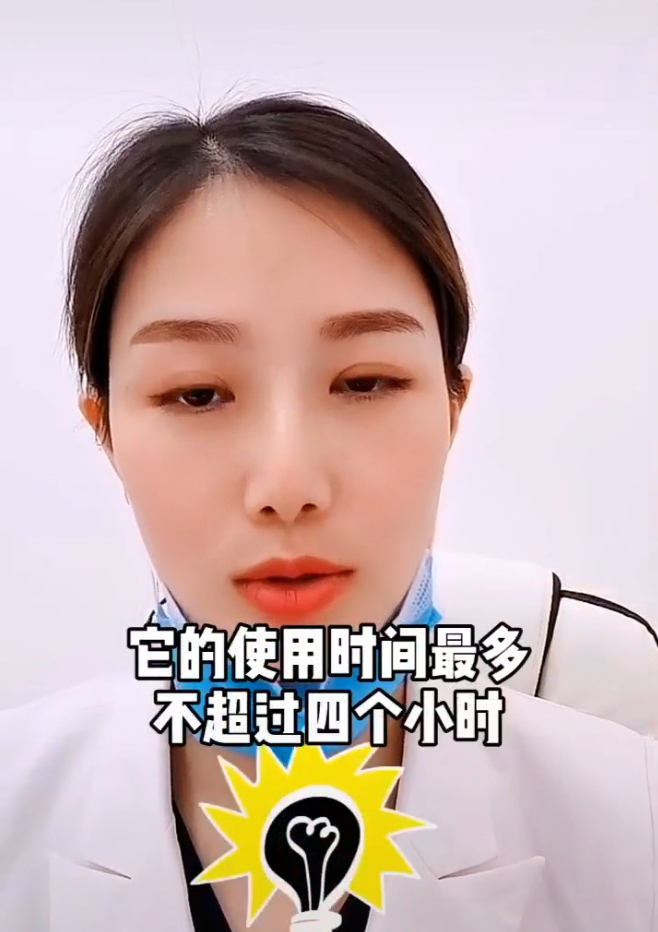face: (108, 216, 448, 679)
